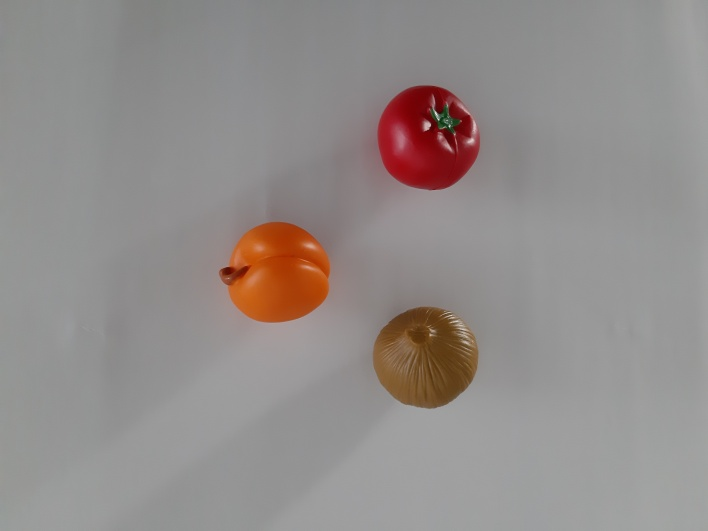apricot: (203, 213, 346, 332)
onion: (366, 282, 498, 426)
tomato: (362, 66, 503, 204)
